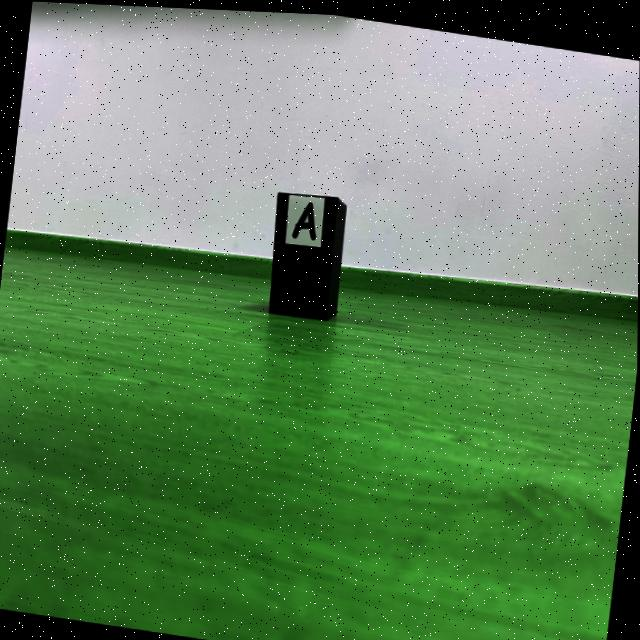A: (292, 199, 315, 237)
